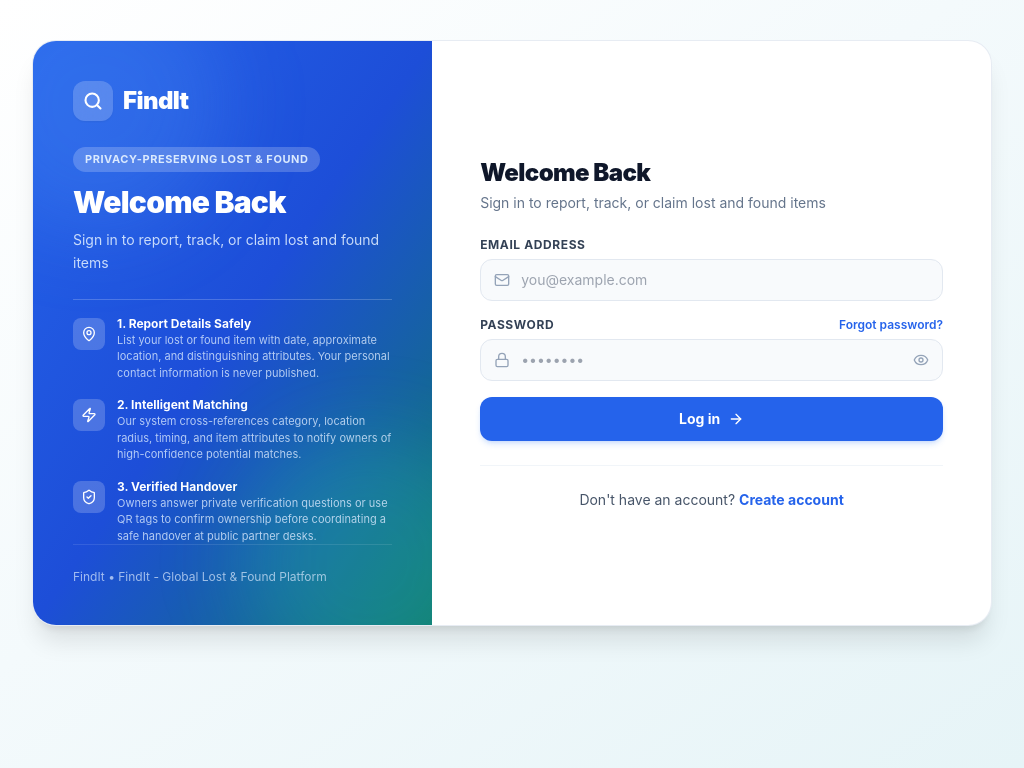
Test case: Milestone 1 - Scaffolding, Navigation, Auth and Route Security › Login Form Validation & Authentication Flow › displays friendly "Incorrect email or password." error when credentials fail
This screenshot has width=1024, height=768.
Type "user@example.com" into the field with placeholder "you@example.com" at (712, 280), box [480, 258, 943, 300]
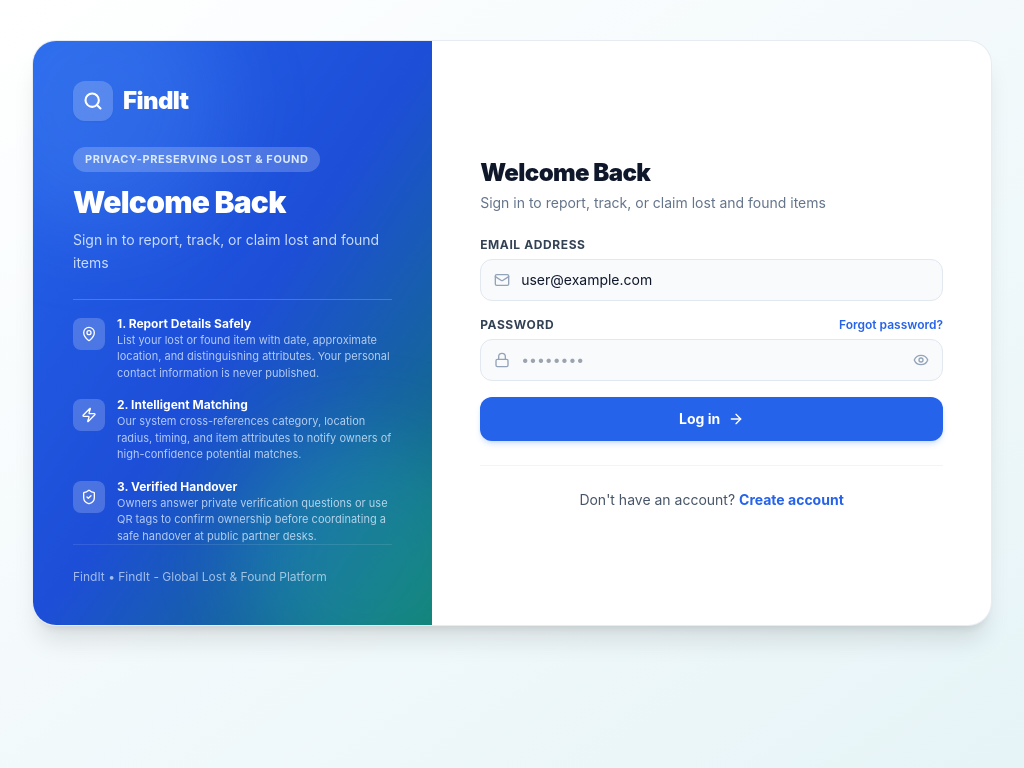
Type "wrongpassword" into the password field with placeholder "••••••••" at (712, 360), box [480, 338, 943, 380]
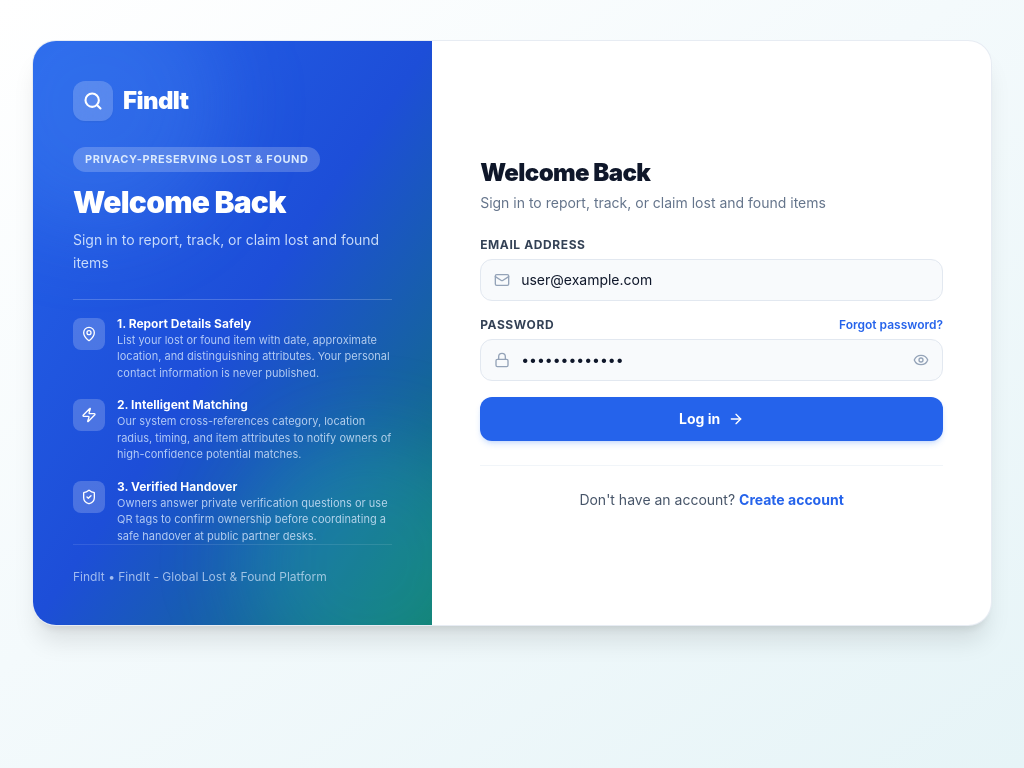
Click the button "Log in" at (712, 418), box [480, 396, 943, 440]
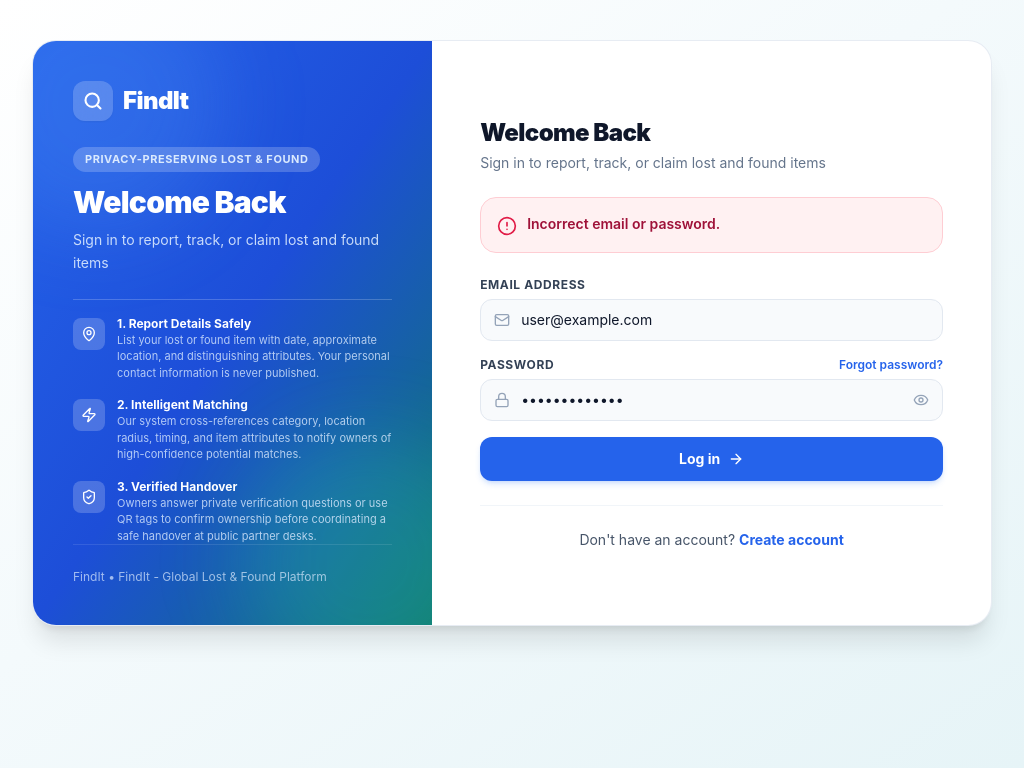
Now the message reads "Incorrect email or password.", box [527, 214, 720, 232]
